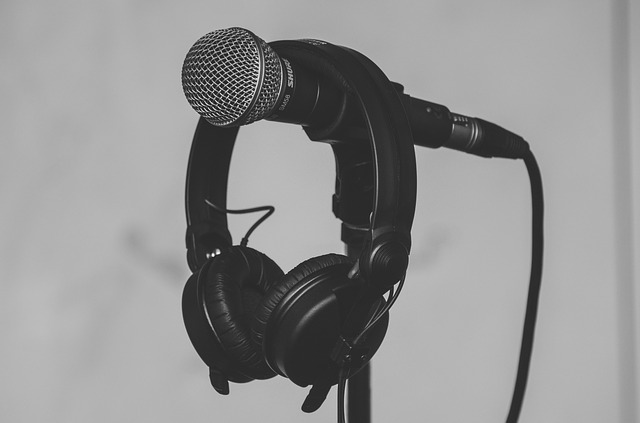headphones: (181, 40, 417, 389)
